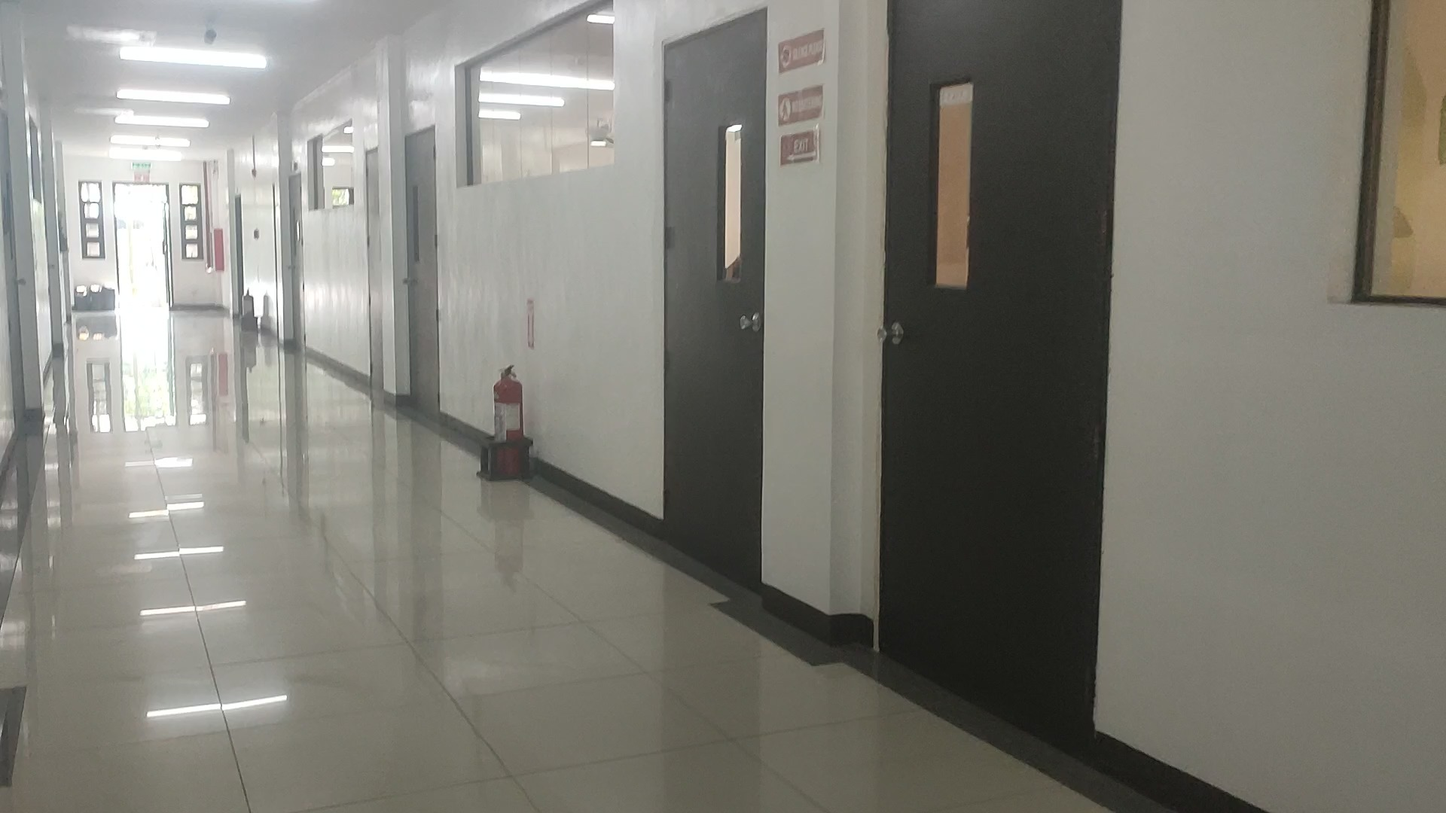door: (878, 0, 1124, 745), (655, 6, 767, 593)
